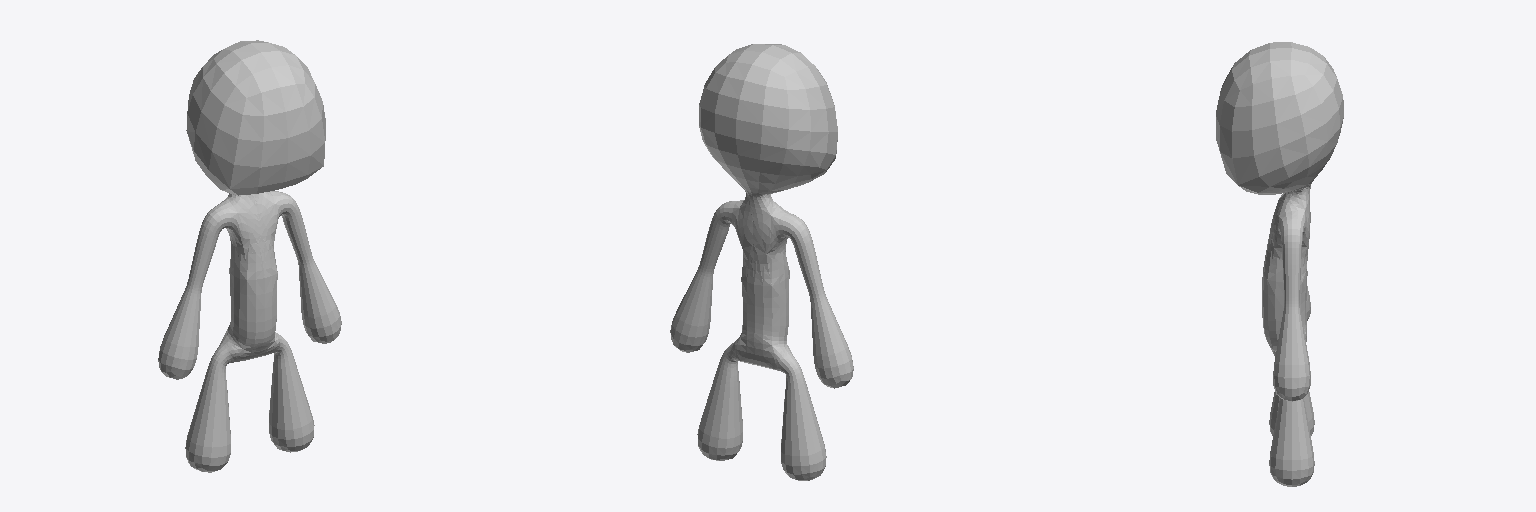
The model's file is Sacboy.obj.
3 renders of one model, left to right at view 1: azimuth 30°, elevation 25°; view 2: azimuth 150°, elevation 25°; view 3: azimuth 270°, elevation 25°, orthographic.
Parts seen in each view (by area): view 1: Plane; view 2: Plane; view 3: Plane.
Part boxes in pixels (x1,y1,x2,y2): Plane: (158, 40, 341, 472); Plane: (670, 44, 853, 480); Plane: (1216, 42, 1343, 486).
Size of the model in its own units: 6.62 by 14.72 by 4.13.